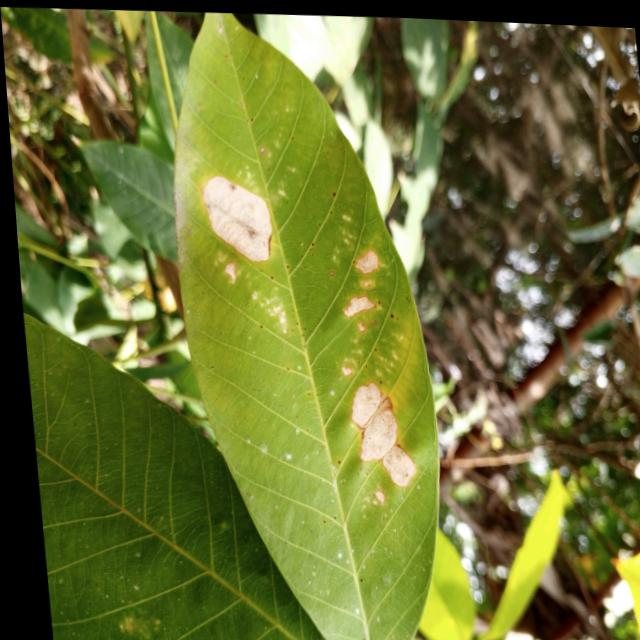Colletotrichum: (325, 266, 330, 271), (329, 188, 333, 192), (385, 309, 389, 313), (330, 457, 333, 460), (327, 207, 329, 210), (315, 219, 317, 222), (308, 239, 310, 242), (368, 344, 370, 346), (314, 442, 316, 444)
Leaf-Blight: (341, 376, 410, 483), (197, 172, 271, 260), (337, 289, 372, 315), (349, 244, 377, 271), (221, 260, 232, 276), (367, 485, 378, 499), (336, 361, 347, 372), (352, 318, 360, 326)
